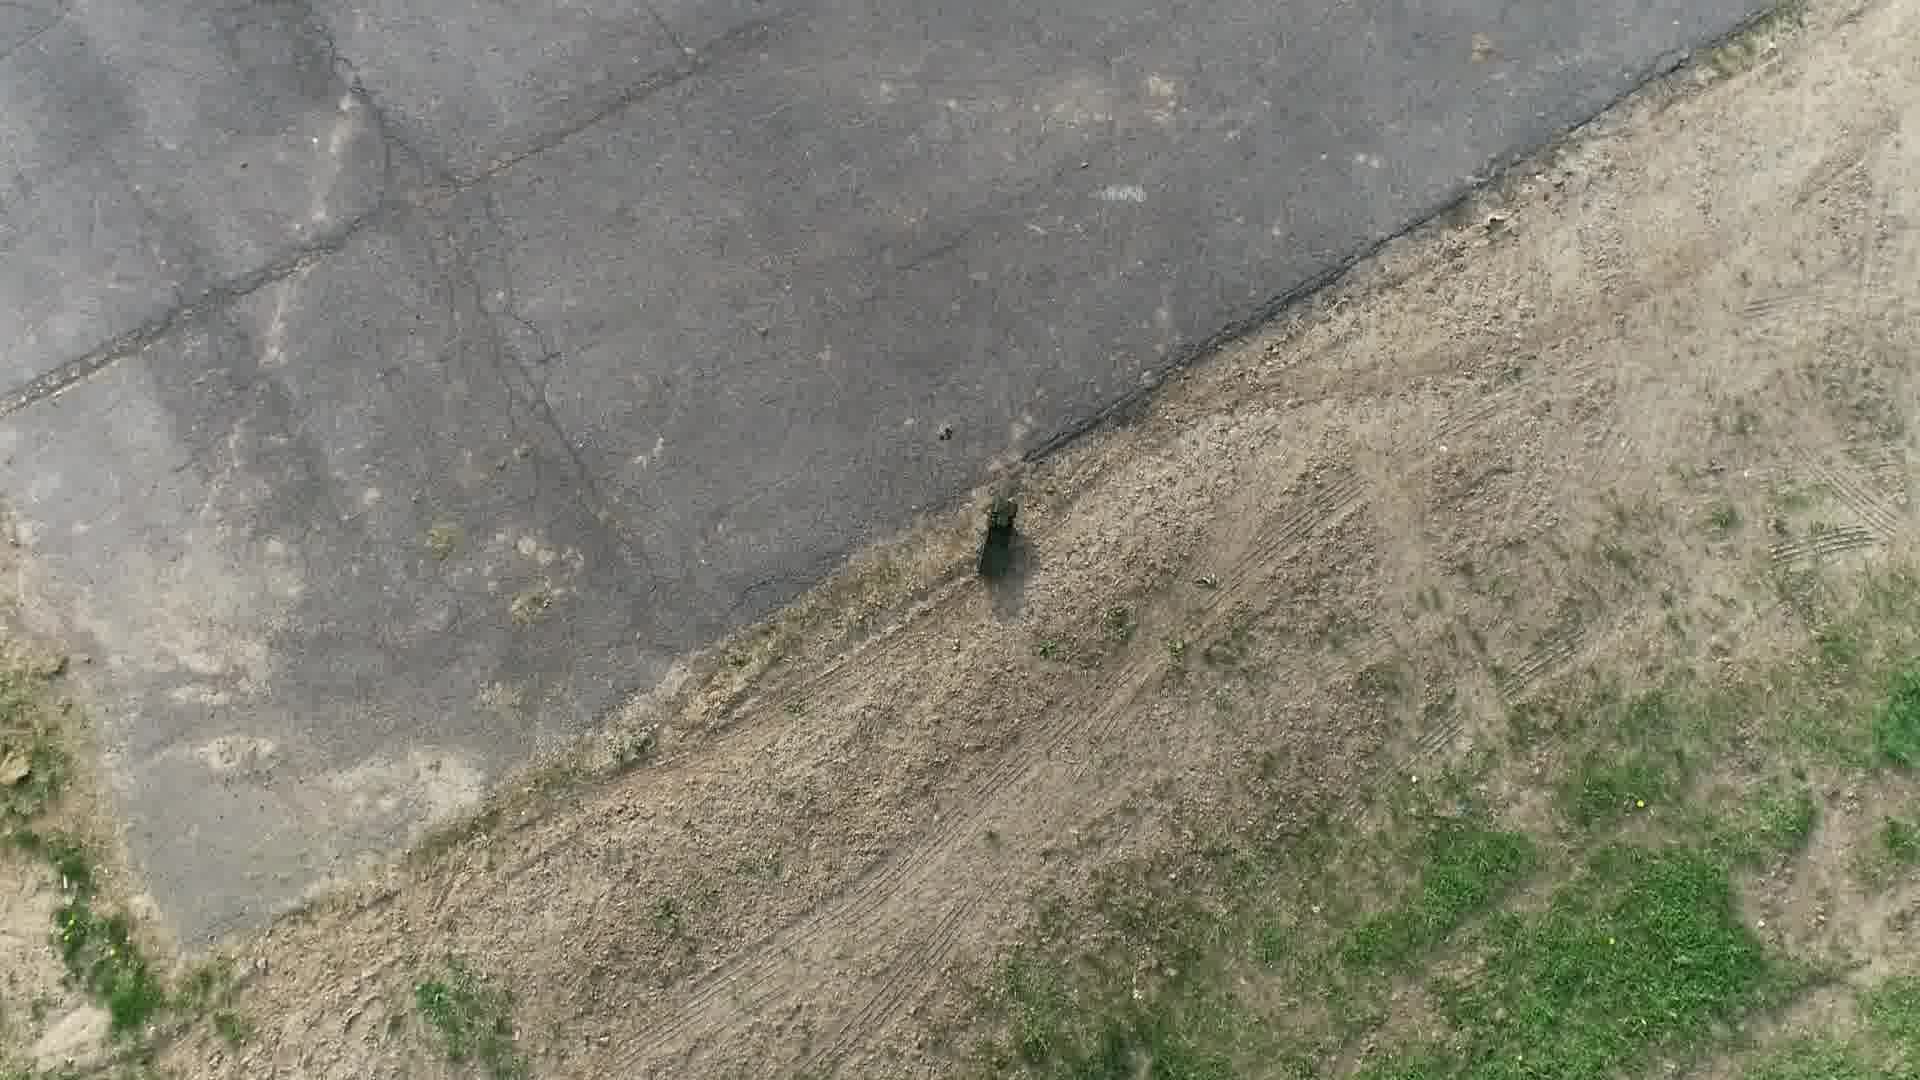transporter9: (975, 495, 1021, 582)
